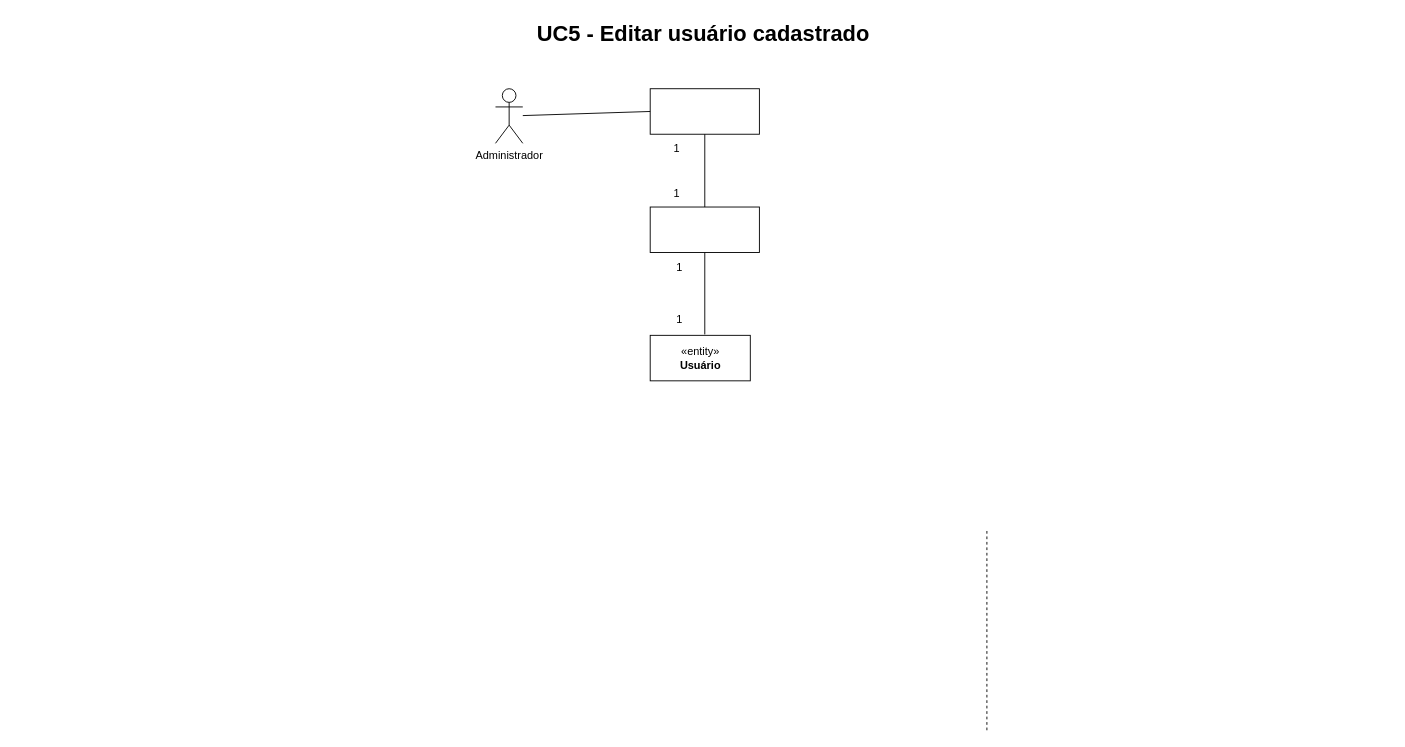
Some shapes in this 1405 by 747 pixel diagram are drawn without their labels. The shapes that lost their labels are listed below. From the top down, each one's centre as x and y in pixels, then its label:
pixel 704 111: «boundary» FormulárioUsuário
pixel 704 229: «control» ControladorUsuário
